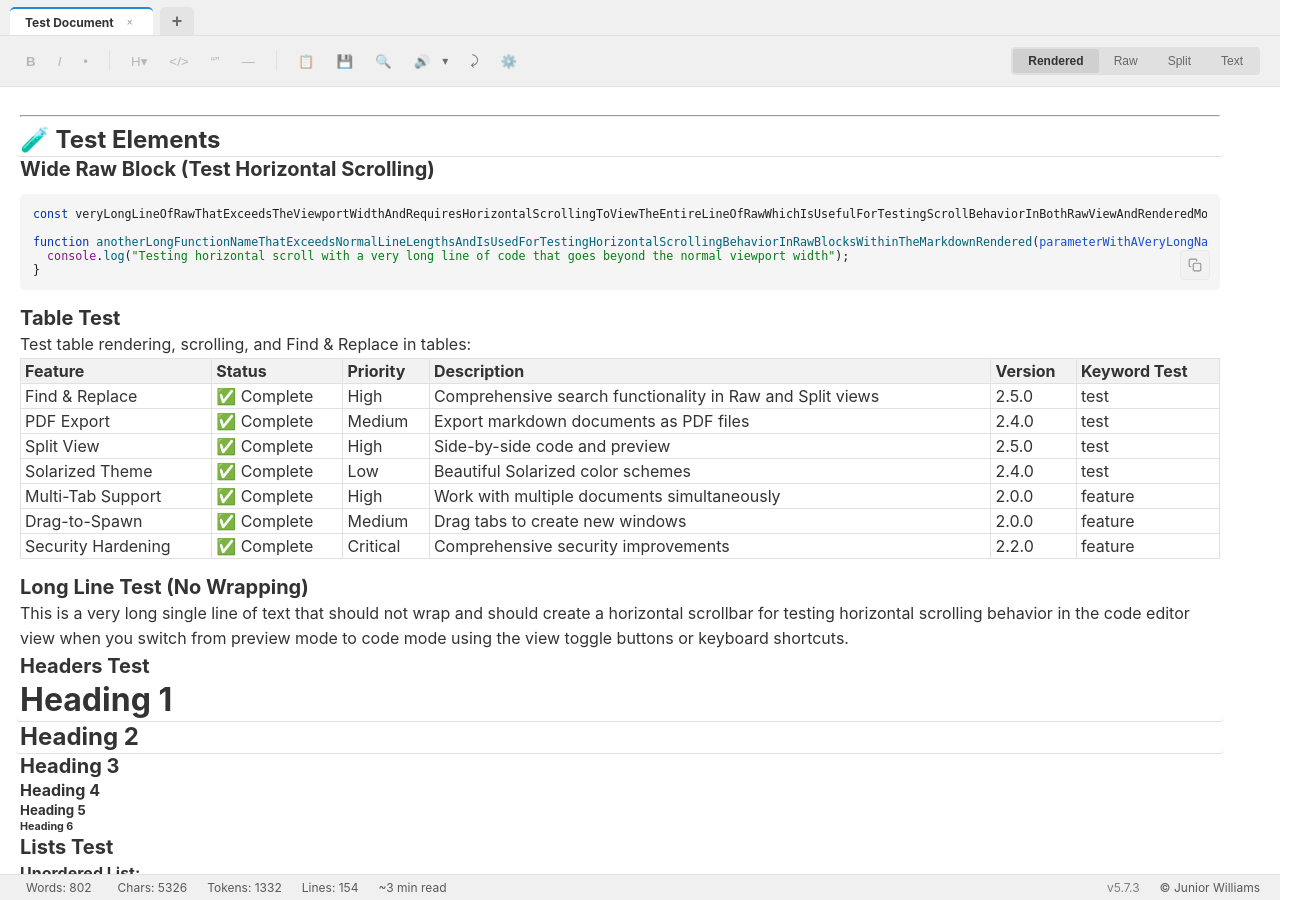
App Integration Tests › Find/Replace Panel › should show Find/Replace panel when clicking find button
Click the button named "Open find panel".
click(383, 61)  # box [369,48,398,74]
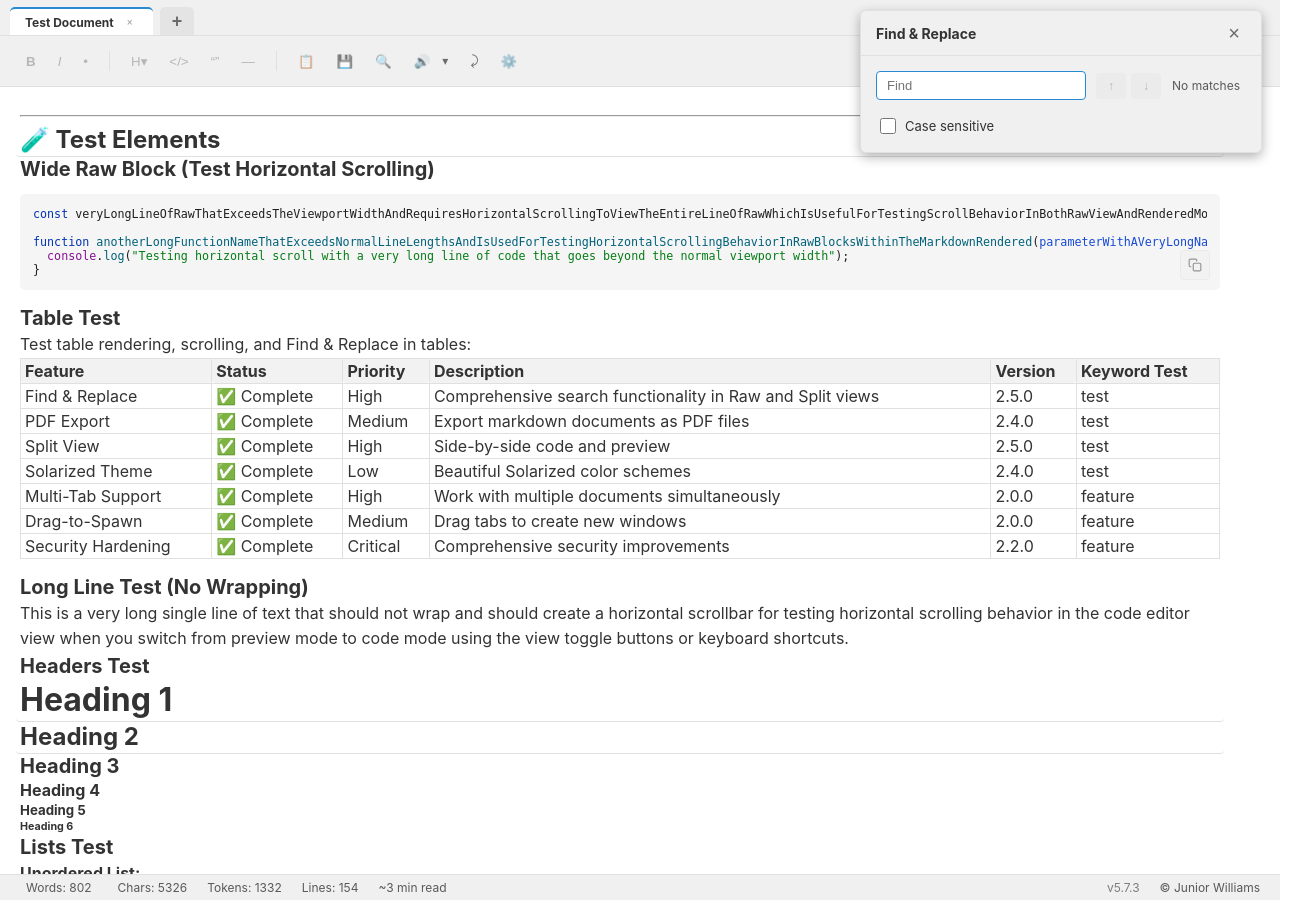
Check: the field with placeholder "Find" is shown, box [876,71,1086,100]
